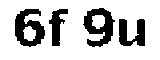6: (10, 6, 47, 48)
9: (81, 6, 117, 51)
f: (45, 5, 71, 51)
u: (117, 14, 153, 51)
